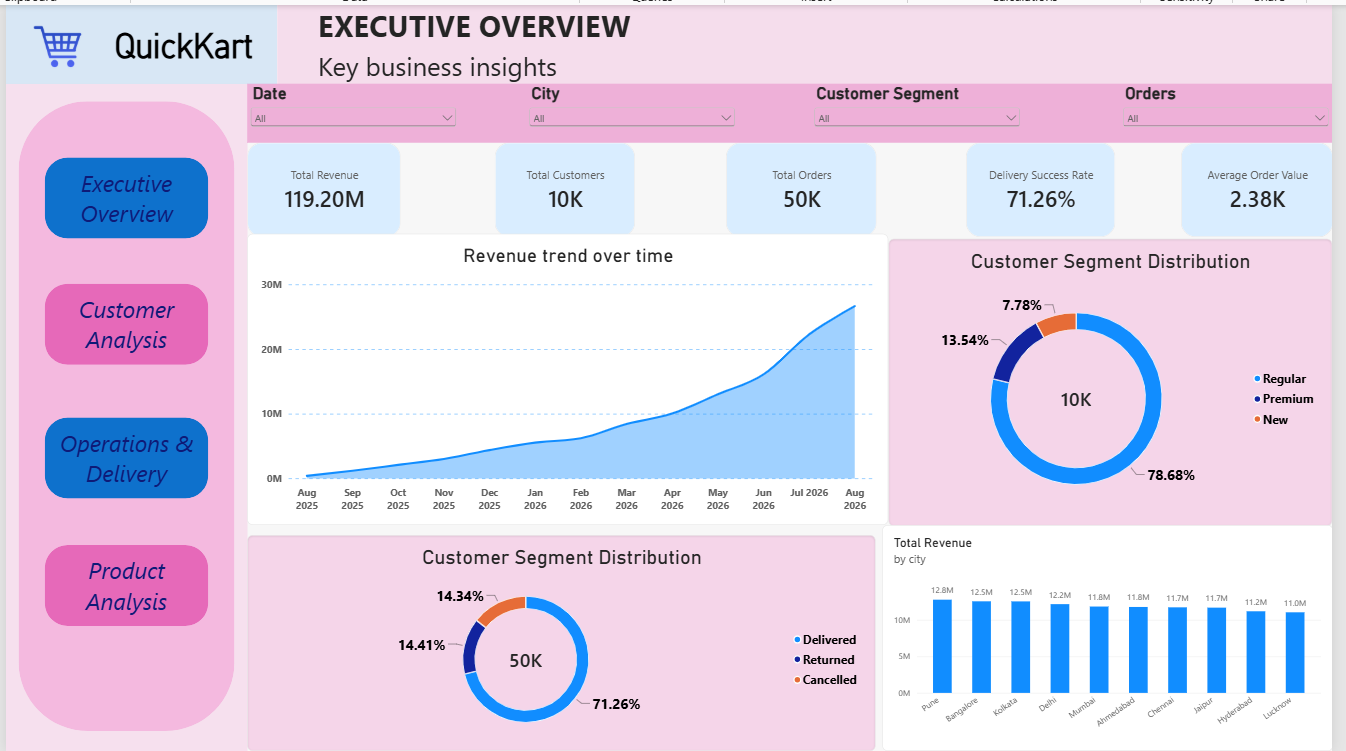

What the dashboard file says about the page in this screenshot:
{"tool":"powerbi","page":{"name":"home","canvas":[1920,1080],"ordinal":0},"visuals":[{"type":"group","id":"g1","title":"Group 1","box":[0,0,393.1,113.2],"z":0},{"type":"textbox","box":[393.1,0,1527.3,113.2],"z":0,"group":"g2"},{"type":"textbox","box":[121.4,28.8,271.7,67.9],"z":0,"group":"g1"},{"type":"image","box":[0,0,152.2,113.2],"z":1000,"group":"g1"},{"type":"group","id":"g2","title":"Group 1","box":[393.1,0,1527.3,113.2],"z":1000},{"type":"shape","box":[0,113.2,349.9,967.4],"z":2000},{"type":"shape","box":[18.5,140,312.9,911.8],"z":3000},{"type":"actionButton","box":[55.6,220.2,236.7,117.3],"z":4000},{"type":"actionButton","box":[55.6,403.4,236.7,117.3],"z":5000},{"type":"actionButton","box":[55.6,596.9,236.7,117.3],"z":6000},{"type":"actionButton","box":[55.6,782.2,236.7,117.3],"z":7000},{"type":"slicer","fields":{"Values":["quickkart orders.order_datetime"]},"box":[349.9,113.2,307.5,86.4],"z":8000,"group":"g3"},{"type":"cardVisual","fields":{"Data":["quickkart orders.Total Revenue"]},"box":[349.9,199.7,222.3,137.9],"z":8000},{"type":"slicer","fields":{"Values":["quickkart customers.city"]},"box":[754,113.2,307.5,86.4],"z":9000,"group":"g3"},{"type":"cardVisual","fields":{"Data":["quickkart customers.Total Customers"]},"box":[708.1,199.7,203.8,137.9],"z":9000},{"type":"slicer","fields":{"Values":["quickkart customers.customer_segment"]},"box":[1165.6,113.2,307.5,86.4],"z":10000,"group":"g3"},{"type":"cardVisual","fields":{"Data":["quickkart orders.Total Orders"]},"box":[1041.5,199.7,218.2,137.9],"z":10000},{"type":"slicer","fields":{"Values":["quickkart orders.order_status"]},"box":[1612.9,113.2,307.5,86.4],"z":11000,"group":"g3"},{"type":"cardVisual","fields":{"Data":["quickkart customers.Delivery Success Rate"]},"box":[1389.4,199.7,216.1,137.9],"z":11000},{"type":"cardVisual","fields":{"Data":["quickkart customers.Average Order Value"]},"box":[1700.2,199.7,220.2,137.9],"z":12000},{"type":"areaChart","title":"Revenue trend over time","fields":{"Category":["quickkart orders.Month Year"],"Y":["quickkart orders.Total Revenue"]},"box":[349.9,331.4,928.3,422],"z":13000},{"type":"donutChart","title":"Customer Segment Distribution","fields":{"Category":["quickkart customers.customer_segment"],"Y":["CountNonNull(quickkart customers.customer_id)"]},"box":[1278.2,337.6,642.2,415.8],"z":14000},{"type":"columnChart","fields":{"Category":["quickkart customers.city"],"Y":["quickkart orders.Total Revenue"]},"box":[1267.9,753.3,652.5,327.3],"z":15000},{"type":"donutChart","title":"Customer Segment Distribution","fields":{"Category":["quickkart orders.order_status"],"Y":["CountNonNull(quickkart orders.order_id)"]},"box":[349.9,767.8,909.8,312.9],"z":16000},{"type":"group","id":"g3","title":"Group 2","box":[349.9,113.2,1570.5,86.4],"z":17000}]}

Visuals, with their boxes on the page's 1920x1080 design canvas (x1, y1, x2, y2). These are canvas units, not pixel positions in the 1346x751 screenshot, which may show the page scaled, cropped or inside an application window:
"Group 1" group: region(0, 0, 393, 113)
textbox: region(393, 0, 1920, 113)
textbox: region(121, 29, 393, 97)
image: region(0, 0, 152, 113)
"Group 1" group: region(393, 0, 1920, 113)
shape: region(0, 113, 350, 1081)
shape: region(18, 140, 331, 1052)
actionButton: region(56, 220, 292, 338)
actionButton: region(56, 403, 292, 521)
actionButton: region(56, 597, 292, 714)
actionButton: region(56, 782, 292, 900)
slicer - quickkart orders.order_datetime: region(350, 113, 657, 200)
cardVisual - quickkart orders.Total Revenue: region(350, 200, 572, 338)
slicer - quickkart customers.city: region(754, 113, 1062, 200)
cardVisual - quickkart customers.Total Customers: region(708, 200, 912, 338)
slicer - quickkart customers.customer_segment: region(1166, 113, 1473, 200)
cardVisual - quickkart orders.Total Orders: region(1042, 200, 1260, 338)
slicer - quickkart orders.order_status: region(1613, 113, 1920, 200)
cardVisual - quickkart customers.Delivery Success Rate: region(1389, 200, 1606, 338)
cardVisual - quickkart customers.Average Order Value: region(1700, 200, 1920, 338)
"Revenue trend over time" areaChart: region(350, 331, 1278, 753)
"Customer Segment Distribution" donutChart: region(1278, 338, 1920, 753)
columnChart - quickkart customers.city x quickkart orders.Total Revenue: region(1268, 753, 1920, 1081)
"Customer Segment Distribution" donutChart: region(350, 768, 1260, 1081)
"Group 2" group: region(350, 113, 1920, 200)
